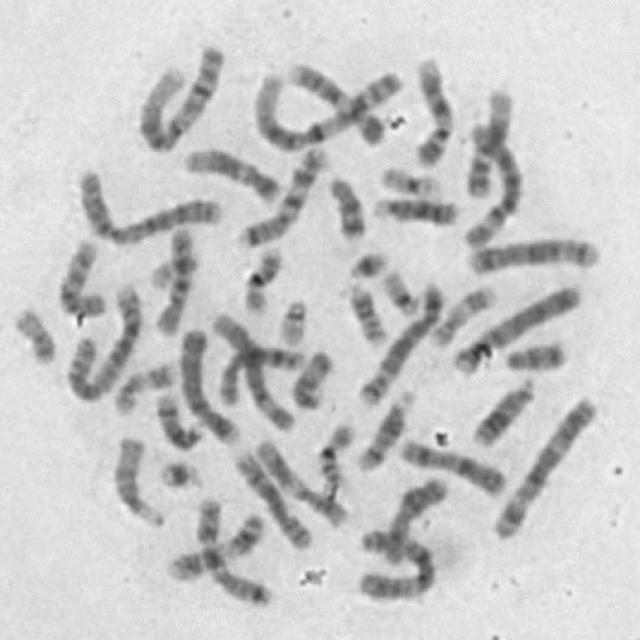A1: (245, 62, 399, 151), (132, 38, 228, 154)
A2: (71, 164, 223, 246), (61, 276, 145, 402)
A3: (486, 388, 602, 543), (352, 523, 439, 604)
B4: (448, 276, 586, 376), (173, 321, 241, 446)
B5: (354, 275, 448, 408), (462, 231, 602, 277)
C10: (149, 220, 197, 336), (52, 232, 106, 318)
C11: (250, 432, 352, 530), (161, 508, 269, 584)
C12: (459, 82, 516, 200), (179, 142, 284, 205)
C6: (205, 306, 299, 434), (457, 116, 526, 250)
C7: (234, 140, 330, 251), (190, 492, 276, 610)
C8: (227, 445, 316, 552), (212, 342, 307, 408)
C9: (282, 55, 386, 148), (409, 49, 458, 169)
D13: (467, 371, 540, 449), (369, 188, 463, 228)
D14: (354, 383, 419, 474), (150, 386, 207, 453)
D15: (107, 428, 168, 531), (285, 344, 336, 413)
E16: (238, 240, 286, 316), (312, 417, 358, 487)
E17: (423, 278, 500, 349), (107, 354, 182, 417)
E18: (322, 170, 368, 242), (499, 335, 569, 374)
F19: (375, 160, 444, 200), (376, 264, 423, 316)
F20: (8, 300, 60, 366), (342, 279, 391, 347)
G21: (153, 453, 205, 492), (342, 244, 391, 282)
G22: (145, 247, 202, 290), (272, 292, 310, 347)
X: (395, 432, 513, 498), (378, 470, 453, 566)
